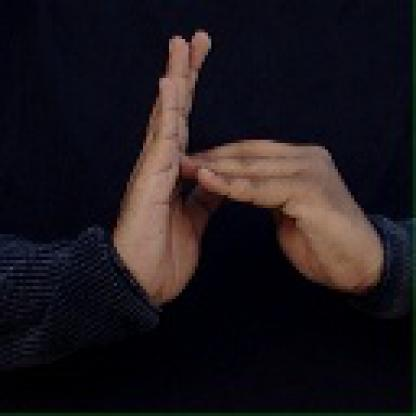Z: (117, 27, 360, 299)
